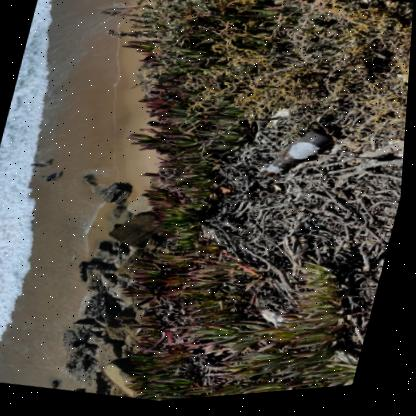Paper: (264, 315, 292, 333)
Plastic: (262, 134, 334, 181), (398, 155, 406, 165)
Waste: (398, 81, 410, 90)
